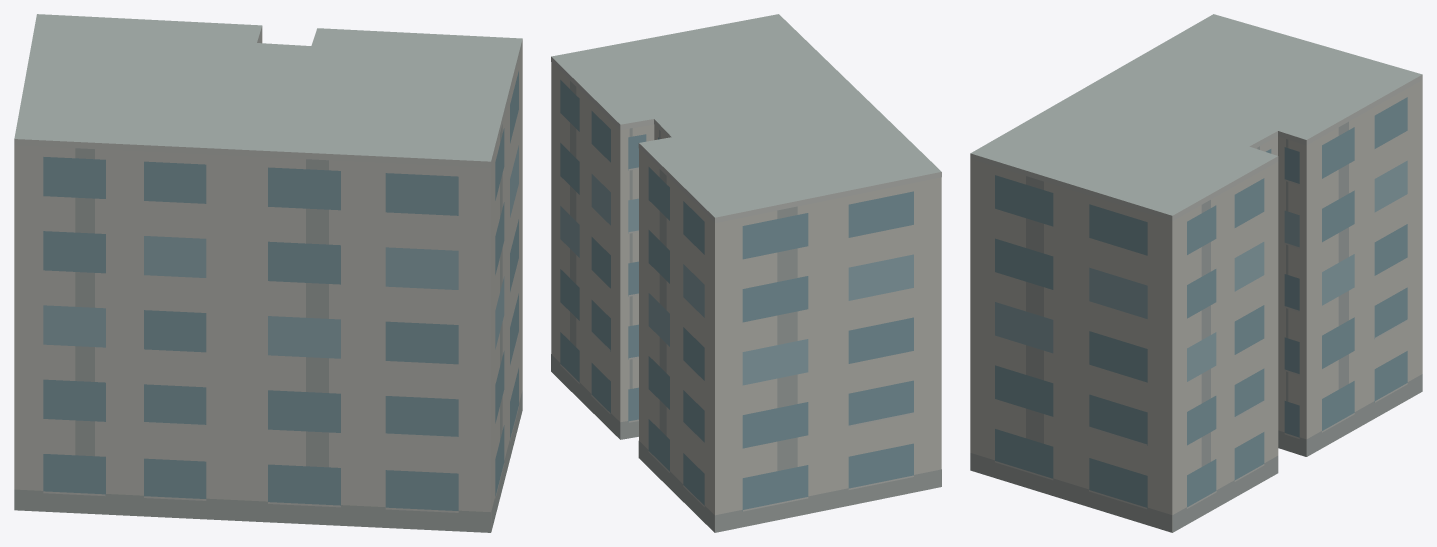
The model's file is survey-upis-32610250.glb.
3 renders of one model, left to right at view 1: azimuth 30°, elevation 25°; view 2: azimuth 150°, elevation 25°; view 3: azimuth 270°, elevation 25°, orthographic. The views are drawn at different scales.
Visible parts, largest first — view 1: survey-upis-32610250.tmp; view 2: survey-upis-32610250.tmp; view 3: survey-upis-32610250.tmp.
Part boxes in pixels (<box>): survey-upis-32610250.tmp: <box>14,14,522,532</box>; survey-upis-32610250.tmp: <box>551,14,941,532</box>; survey-upis-32610250.tmp: <box>970,14,1422,532</box>.
Size of the model in its own units: 19.39 by 14.2 by 18.36.
